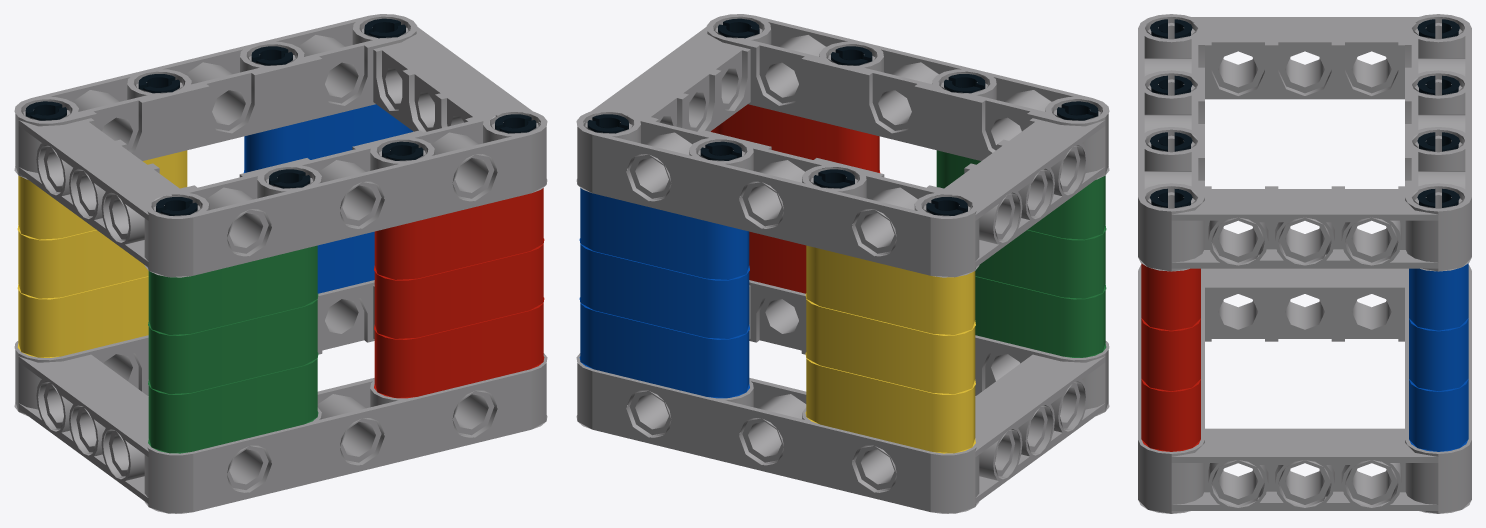
File: cuboid_godot.glb
3 views of the same model, side by side, from view 1: azimuth 30°, elevation 25°; view 2: azimuth 150°, elevation 25°; view 3: azimuth 270°, elevation 25° (orthographic). The views are drawn at different scales.
Parts seen in each view (by area): view 1: 64179.dat.001, 64179.dat, 32523.dat, 32523.dat.001, 32523.dat.005, 32523.dat.004, 32523.dat.011, 32523.dat.010, 32523.dat.006, 32523.dat.007, 32523.dat.008, 32523.dat.009 (+9 smaller); view 2: 64179.dat.001, 64179.dat, 32523.dat.006, 32523.dat.007, 32523.dat.002, 32523.dat.003, 32523.dat.009, 32523.dat.008, 32523.dat.001, 32523.dat, 32523.dat.010, 32523.dat.011 (+9 smaller); view 3: 64179.dat.001, 64179.dat, 32523.dat.002, 32523.dat.005, 32523.dat.003, 32523.dat.004, 32523.dat.008, 32523.dat.010, 2780.dat.004, 2780.dat.011, 2780.dat.005, 2780.dat.010 (+4 smaller).
Part boxes in pixels (<box>): 64179.dat.001: <box>14,14,547,277</box>; 64179.dat: <box>14,280,547,513</box>; 32523.dat: <box>148,296,318,394</box>; 32523.dat.001: <box>148,355,318,453</box>; 32523.dat.005: <box>374,299,544,398</box>; 32523.dat.004: <box>374,240,544,339</box>; 32523.dat.011: <box>148,245,318,335</box>; 32523.dat.010: <box>374,188,544,280</box>; 32523.dat.006: <box>17,276,148,357</box>; 32523.dat.007: <box>17,229,148,298</box>; 32523.dat.008: <box>243,104,413,172</box>; 32523.dat.009: <box>17,150,187,239</box>; 64179.dat.001: <box>576,14,1109,277</box>; 64179.dat: <box>576,280,1109,513</box>; 32523.dat.006: <box>805,355,975,453</box>; 32523.dat.007: <box>805,296,975,394</box>; 32523.dat.002: <box>579,299,749,398</box>; 32523.dat.003: <box>579,240,749,339</box>; 32523.dat.009: <box>805,245,975,335</box>; 32523.dat.008: <box>579,188,749,280</box>; 32523.dat.001: <box>975,276,1106,357</box>; 32523.dat: <box>975,229,1106,298</box>; 32523.dat.010: <box>710,104,880,172</box>; 32523.dat.011: <box>936,150,1106,239</box>; 64179.dat.001: <box>1138,14,1471,271</box>; 64179.dat: <box>1138,265,1471,513</box>; 32523.dat.002: <box>1409,379,1468,451</box>; 32523.dat.005: <box>1141,379,1200,451</box>; 32523.dat.003: <box>1409,318,1468,391</box>; 32523.dat.004: <box>1141,318,1200,391</box>; 32523.dat.008: <box>1409,263,1468,330</box>; 32523.dat.010: <box>1141,263,1200,330</box>; 2780.dat.004: <box>1417,19,1459,38</box>; 2780.dat.011: <box>1150,19,1192,38</box>; 2780.dat.005: <box>1417,75,1459,94</box>; 2780.dat.010: <box>1150,75,1192,94</box>.
Bounding box in the file's own units: 0.0559 × 0.0399 × 0.0399.
